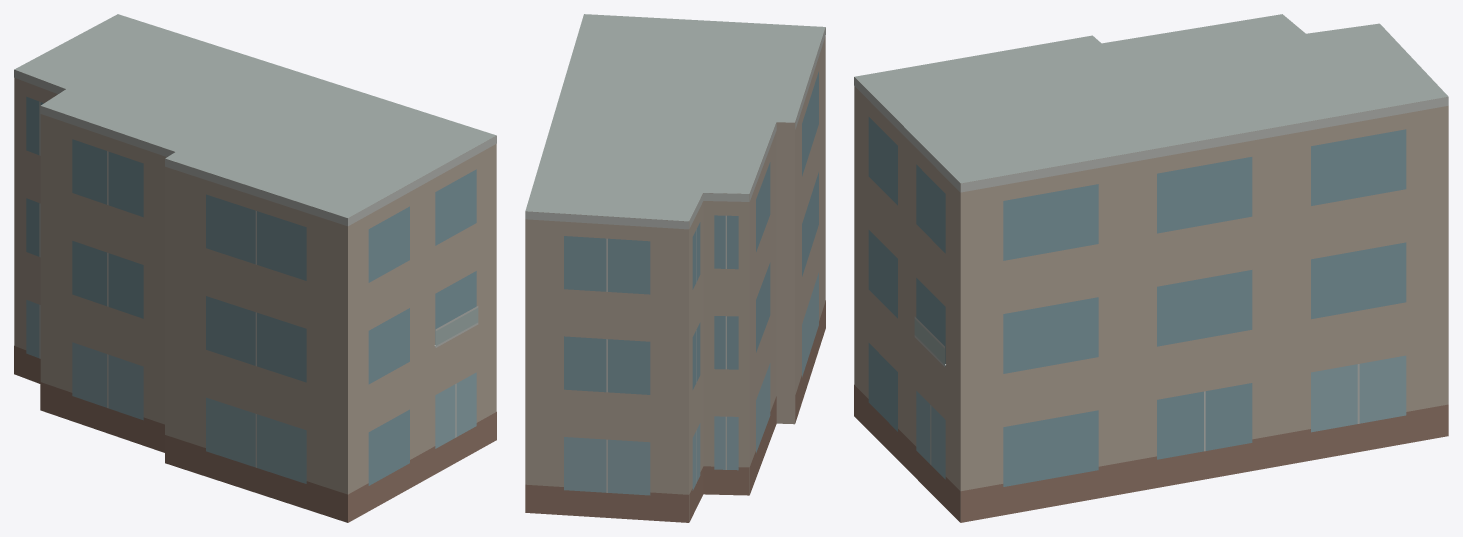
The model's file is survey-upis-32758776.glb.
3 views of the same model, side by side, from view 1: azimuth 30°, elevation 25°; view 2: azimuth 150°, elevation 25°; view 3: azimuth 270°, elevation 25° (orthographic). The views are drawn at different scales.
Visible parts, largest first — view 1: survey-upis-32758776.tmp; view 2: survey-upis-32758776.tmp; view 3: survey-upis-32758776.tmp.
Boxes of the visible parts, x1,y1,x2,y2 form: survey-upis-32758776.tmp: (14, 14, 496, 522); survey-upis-32758776.tmp: (525, 14, 825, 522); survey-upis-32758776.tmp: (854, 14, 1448, 522).
Size of the model in its own units: 9.81 by 9.15 by 14.54.
